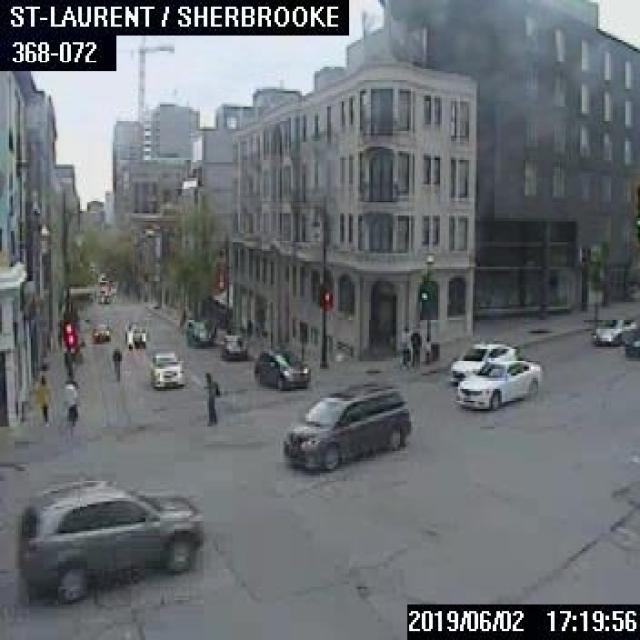cyclist: (110, 344, 122, 379)
pedestrian: (200, 366, 218, 424), (62, 378, 78, 427), (35, 373, 47, 422), (398, 323, 409, 371), (409, 328, 420, 367)
vehicle: (14, 479, 202, 601), (282, 386, 411, 471), (456, 358, 539, 408), (449, 339, 517, 381), (253, 347, 307, 389), (591, 311, 636, 344), (148, 349, 184, 387), (183, 317, 211, 345), (220, 334, 247, 360), (124, 320, 146, 347), (89, 320, 111, 341), (623, 328, 638, 356)
